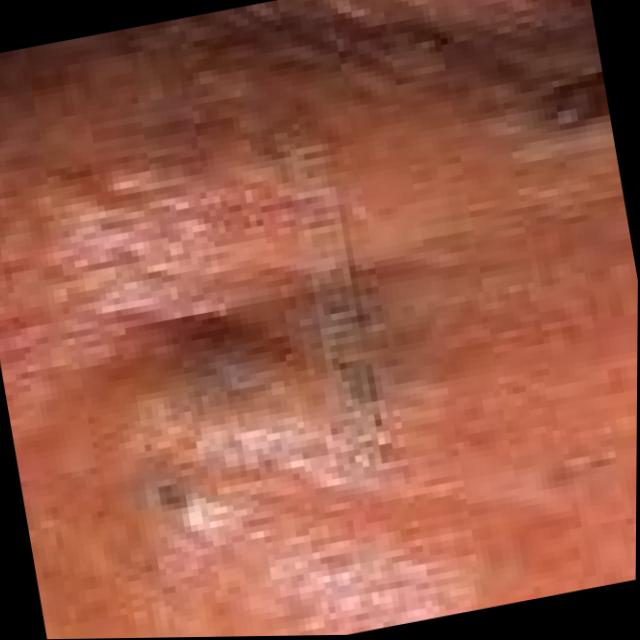Melasma: (0, 32, 296, 330), (119, 300, 394, 511)
